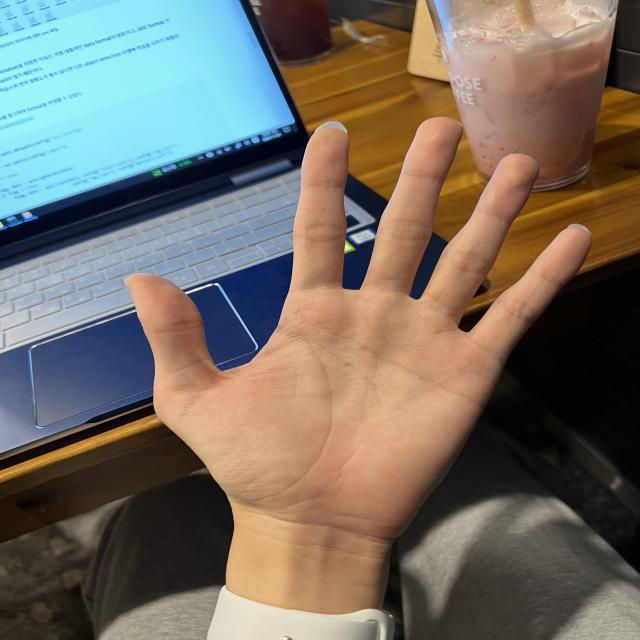hand: (71, 104, 628, 554)
